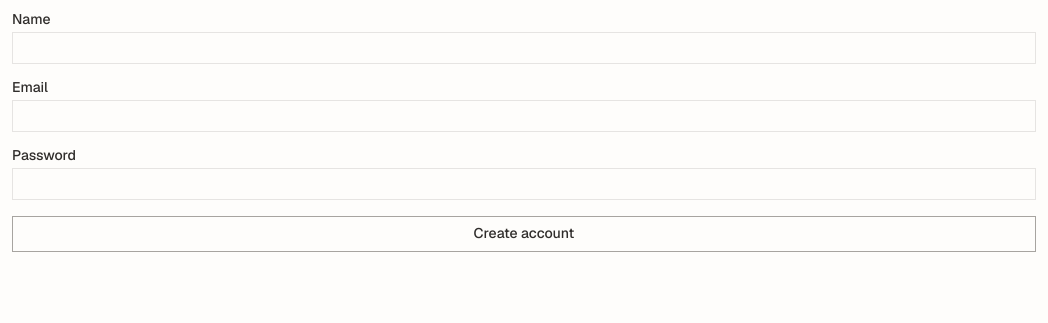
Test case: <SignupForm> › surfaces server errors and stays on the form
The width and height of the screenshot is (1048, 323).
In the field labelled "Name": {"x": 524, "y": 48} x1=12 y1=32 x2=1036 y2=64, type "Alice"
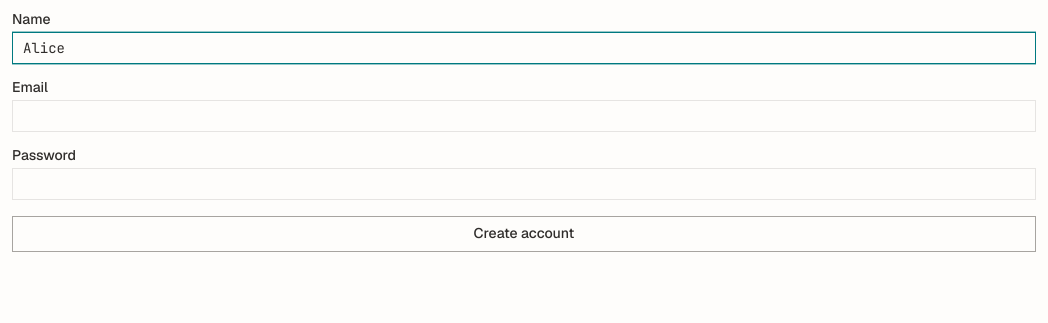
In the field labelled "Email": {"x": 524, "y": 116} x1=12 y1=100 x2=1036 y2=132, type "alice@example.com"
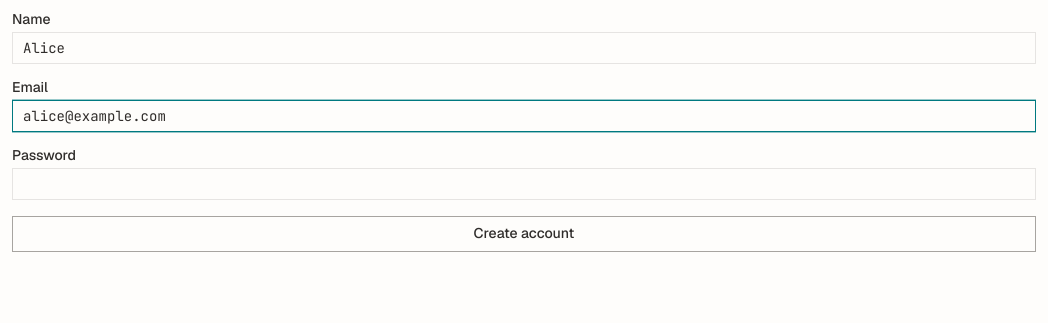
In the password field labelled "Password": {"x": 524, "y": 184} x1=12 y1=168 x2=1036 y2=200, type "password-12345"
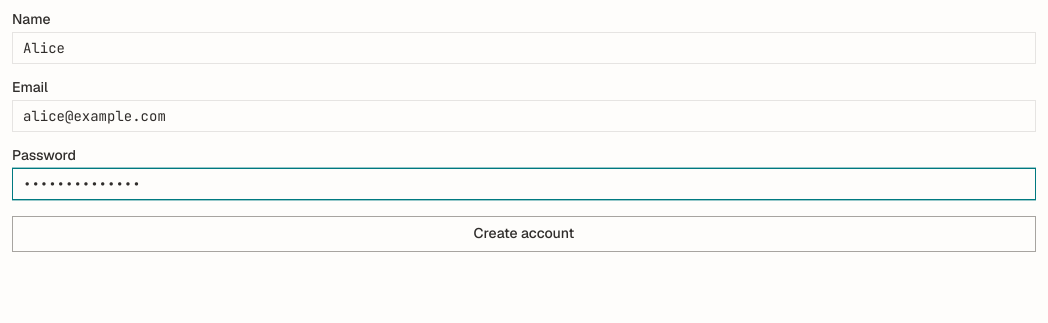
Click the button "Create account": {"x": 524, "y": 234} x1=12 y1=216 x2=1036 y2=252
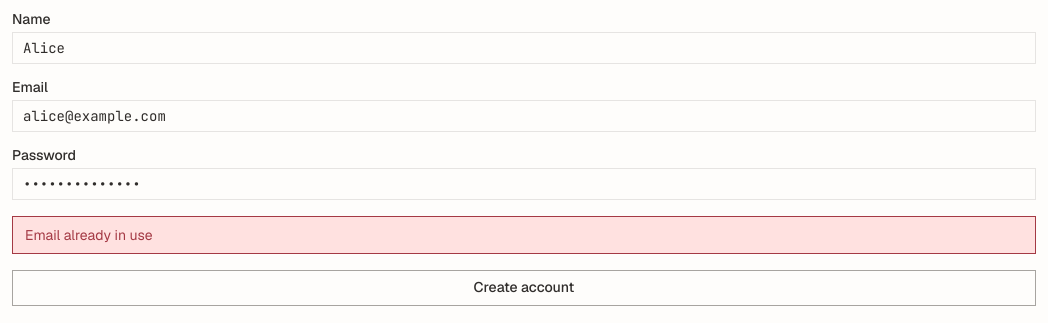
Now the message reads "Email already in use", box x1=25 y1=226 x2=152 y2=244
